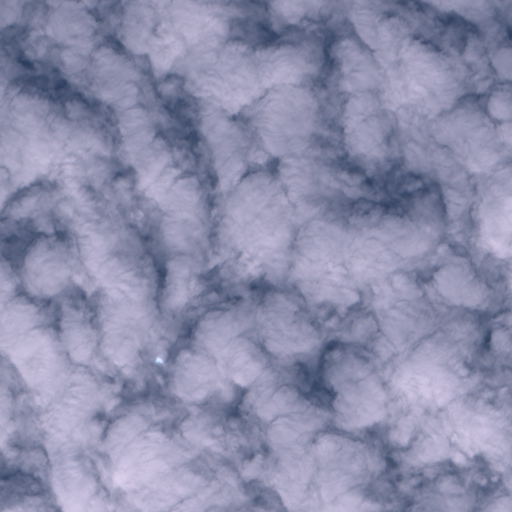Iceberg: (156, 358, 162, 362)
